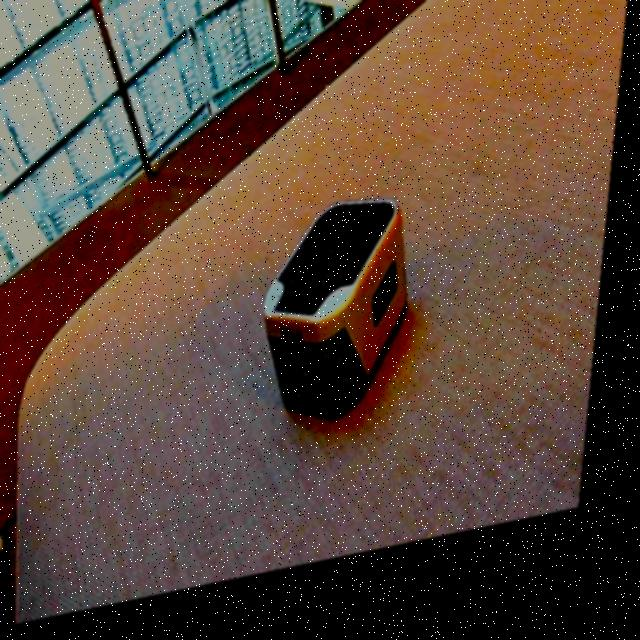adapter: (258, 202, 425, 448)
